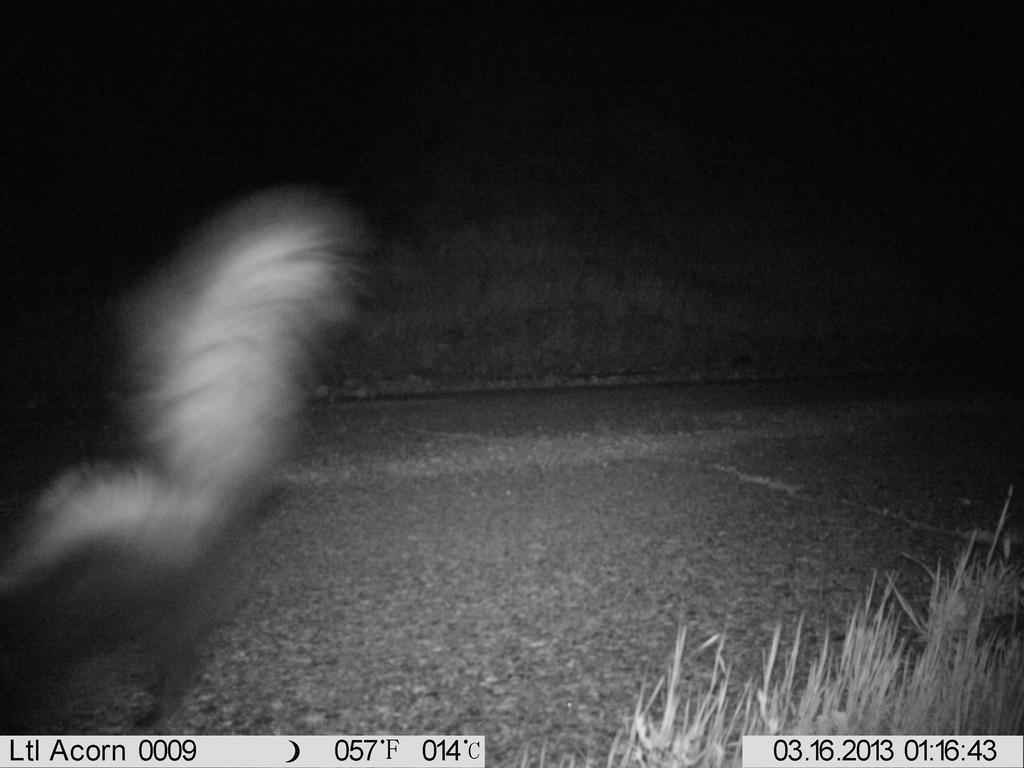skunk: (1, 175, 386, 739)
